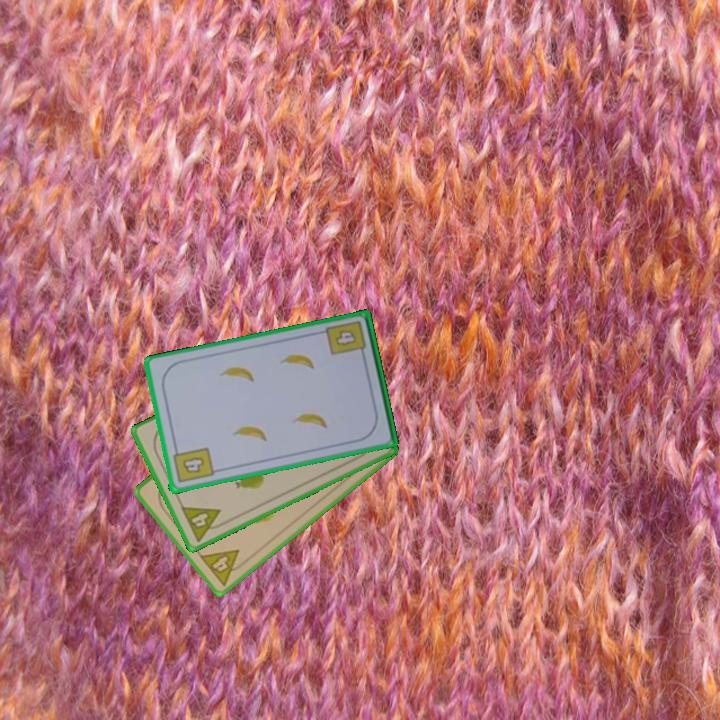4b: (169, 443, 216, 486), (331, 327, 360, 349)
4p: (196, 546, 250, 589), (177, 503, 229, 545)
